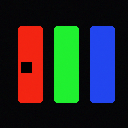1 square: (21, 62, 31, 72)
